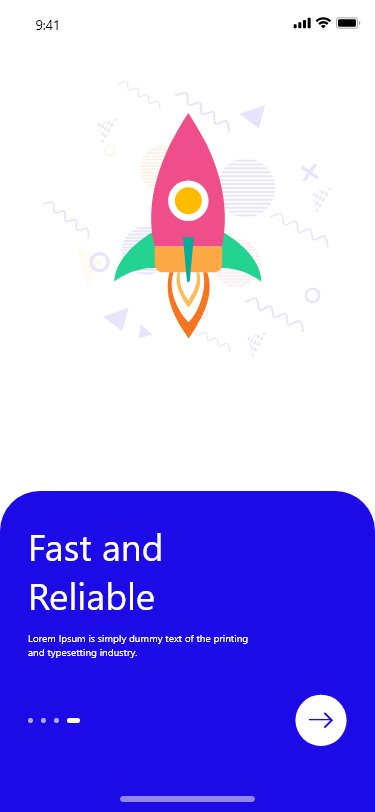Icon: (295, 694, 347, 747)
Image: (43, 81, 331, 358)
PageIndicator: (28, 717, 82, 724)
Text: (31, 532, 163, 611), (28, 634, 249, 659)
UpperTaskBar: (36, 17, 361, 32)
